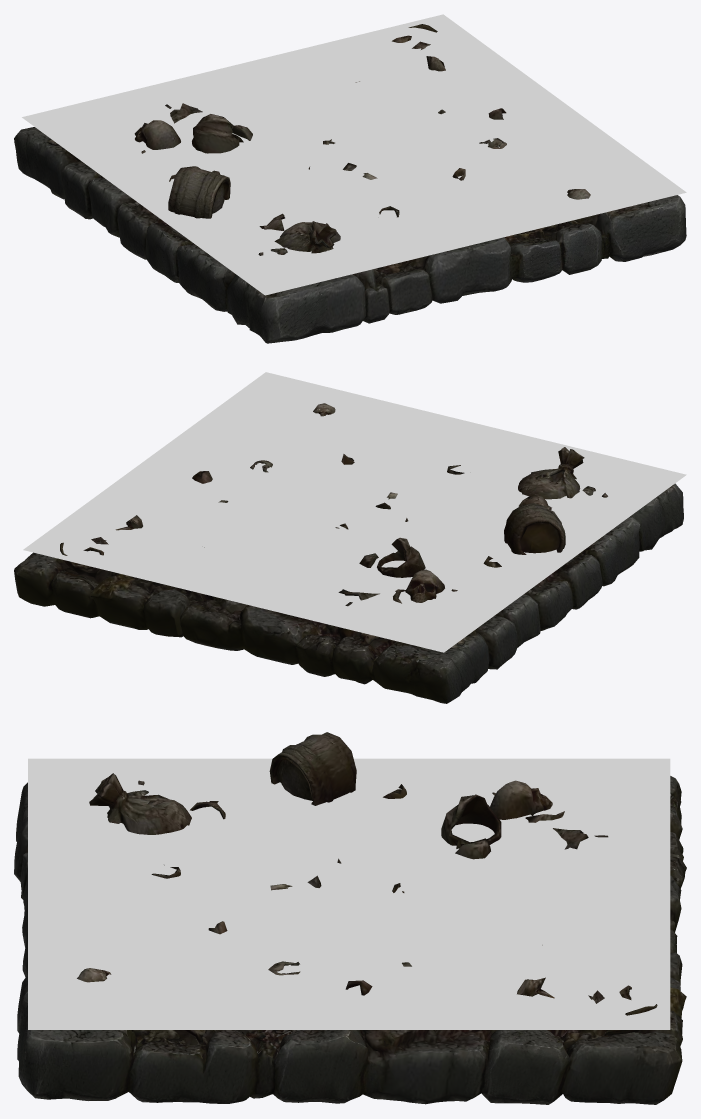
File: Wall_Sewer_Floor.fbx
3 renders of one model, top to bottom at view 1: azimuth 30°, elevation 25°; view 2: azimuth 150°, elevation 25°; view 3: azimuth 270°, elevation 25°, orthographic. The views are drawn at different scales.
Visible parts, largest first — view 1: Sewer_Floor; view 2: Sewer_Floor; view 3: Sewer_Floor.
Part boxes in pixels (x1,y1,x2,y2): Sewer_Floor: [14, 14, 686, 343]; Sewer_Floor: [14, 372, 686, 703]; Sewer_Floor: [14, 732, 686, 1104].
Size of the model in its own units: 312 by 61.48 by 314.
2 materials, 1 textured.
